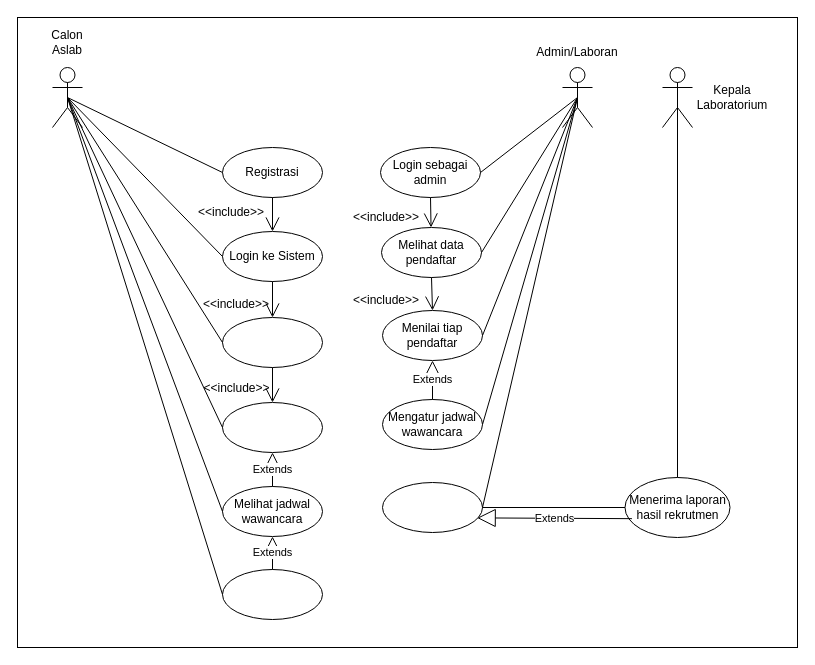
Some shapes in this 815 by 665 pixel diagram are drawn without their labels. The shapes that lost their labels are listed below. From the top down, each one's centre as x and y in pixels, then its label:
(x=272, y=342): Mengisi data diri & upload berkas
(x=272, y=427): Melihat status kelulusan berkas
(x=432, y=507): Mengunduh laporan hasil rekrutmen
(x=272, y=594): Melihat status kelulusan
